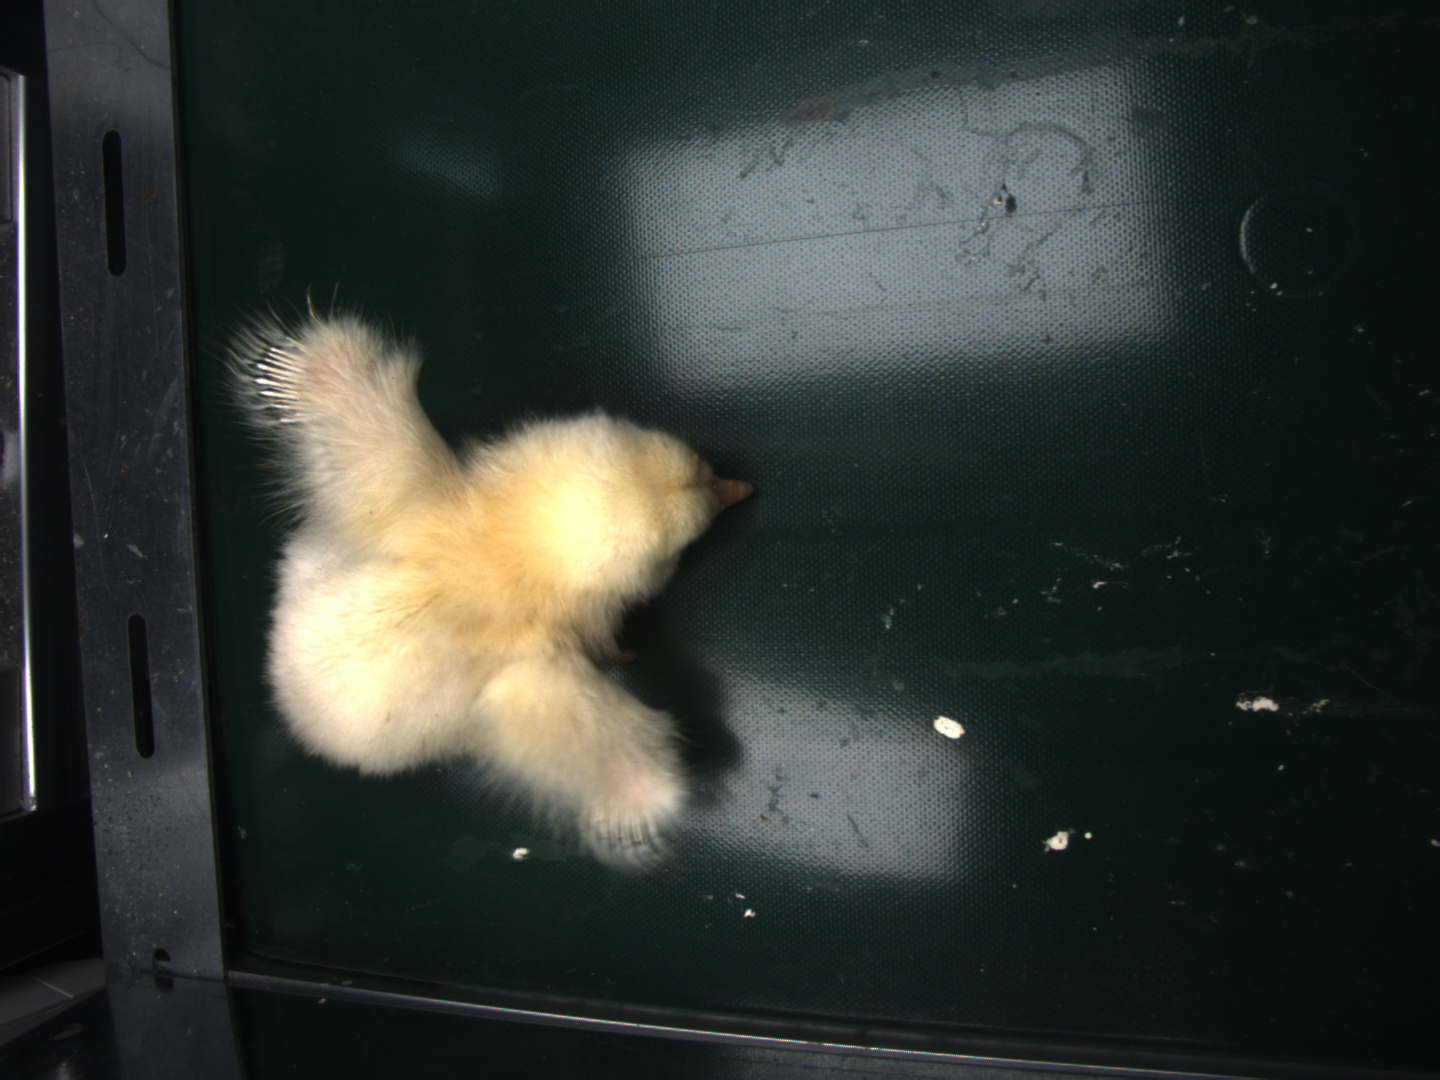male: (257, 337, 316, 422), (586, 804, 655, 851)
